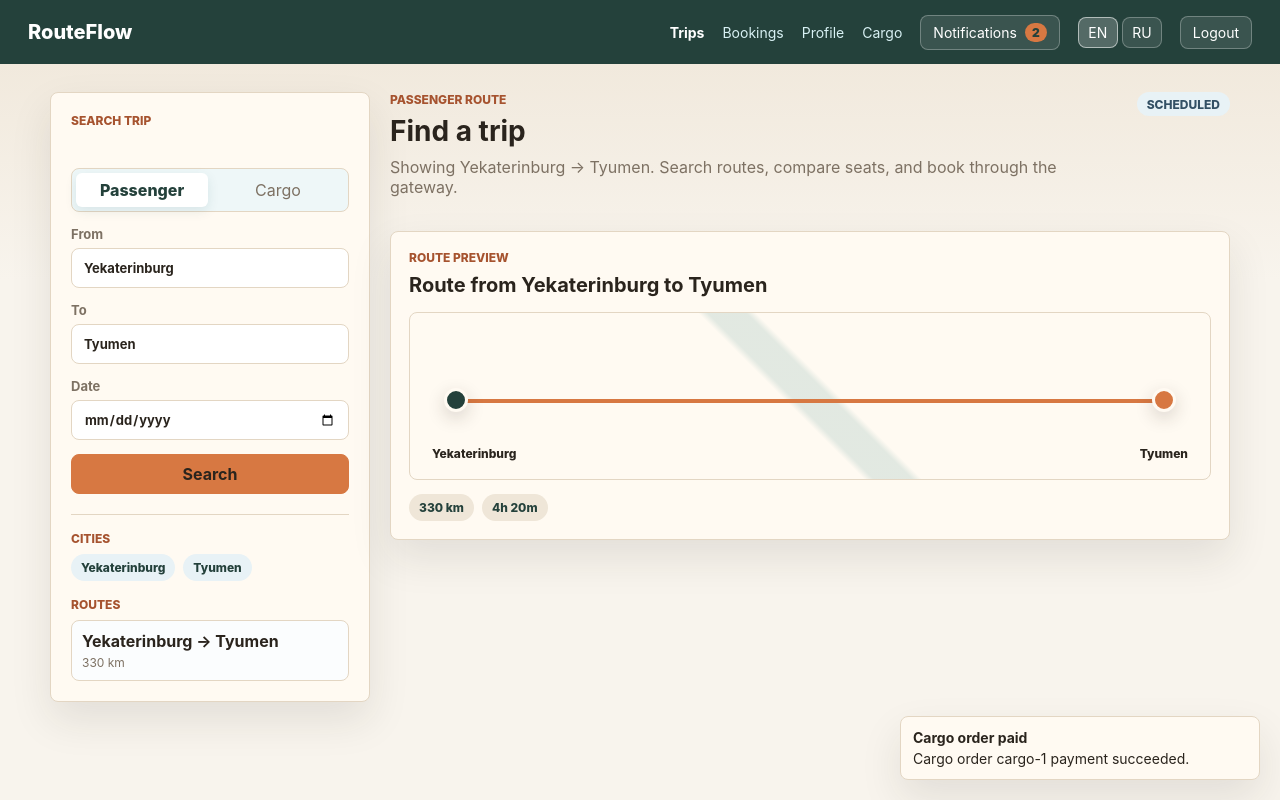
Test case: App routes › shows unread notification badge, dropdown actions, and entity links
Expected: the message named "notification toast" shows "Cargo order paid", [913, 729, 1027, 746]
What coordinates should you click on to do the following:
click the button with aria-label "Notifications 2 unread"
I would click on:
 (990, 32)
Its box is [920, 14, 1060, 50].
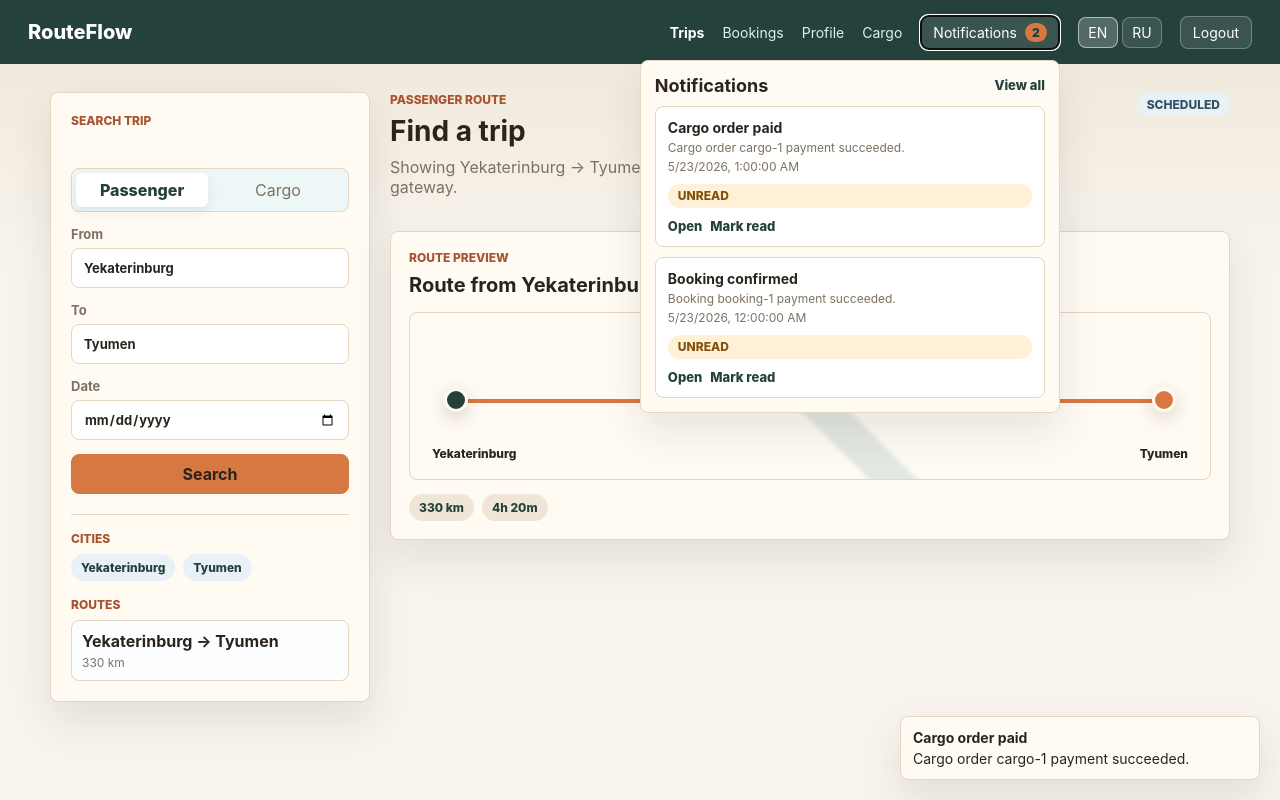
Result: the heading "Notifications" is shown at [655, 74, 768, 96]
Result: the text "Booking confirmed" is shown at [668, 270, 798, 286]
What coordinates should you click on to do the following:
click the button with aria-label "Mark Booking confirmed as read"
I would click on:
 (743, 376)
Its box is [710, 368, 775, 384].
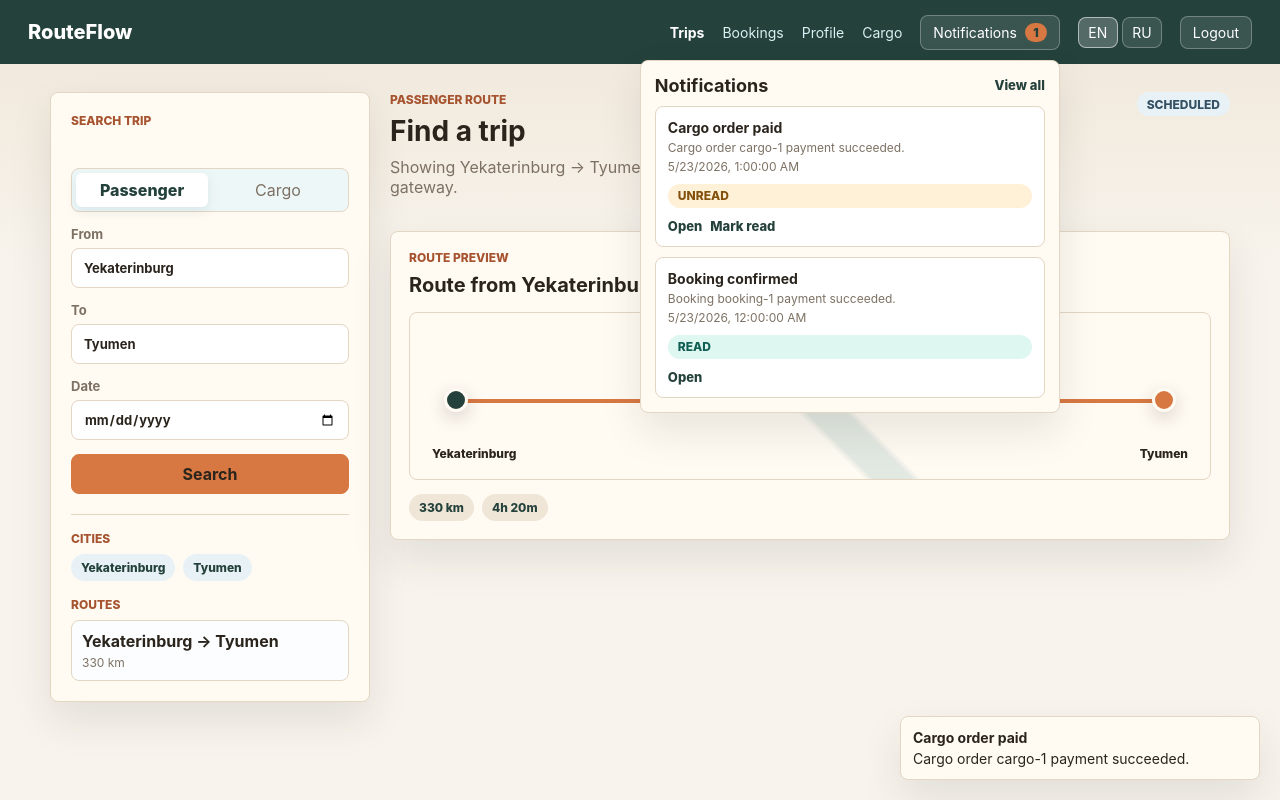
Result: the button with aria-label "Notifications 1 unread" is shown at [920, 14, 1060, 50]
